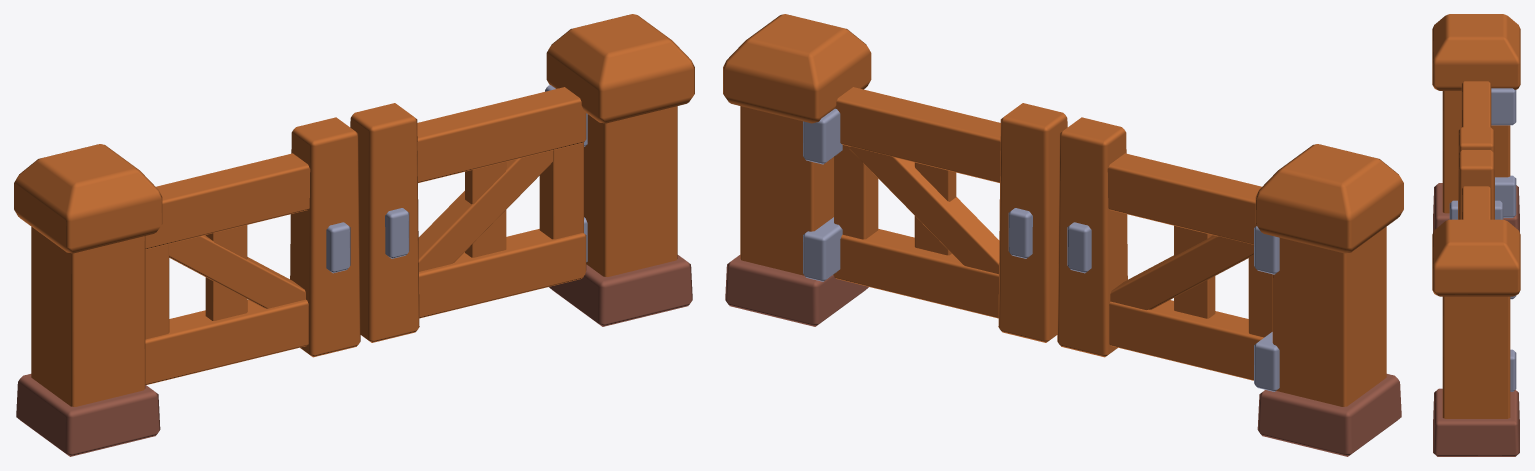
File: Gate.glb
3 views of the same model, side by side, from view 1: azimuth 30°, elevation 25°; view 2: azimuth 150°, elevation 25°; view 3: azimuth 270°, elevation 25° (orthographic). The views are drawn at different scales.
Parts seen in each view (by area): view 1: M_Gate_ToyLeg, M_Gate_Bark, M_Gate_Steel; view 2: M_Gate_ToyLeg, M_Gate_Bark, M_Gate_Steel; view 3: M_Gate_ToyLeg, M_Gate_Bark, M_Gate_Steel.
Boxes of the visible parts, bbox=[...] form: M_Gate_ToyLeg: bbox=[14, 14, 694, 406]; M_Gate_Bark: bbox=[16, 255, 692, 456]; M_Gate_Steel: bbox=[326, 85, 587, 273]; M_Gate_ToyLeg: bbox=[723, 14, 1403, 406]; M_Gate_Bark: bbox=[725, 255, 1401, 456]; M_Gate_Steel: bbox=[803, 108, 1279, 391]; M_Gate_ToyLeg: bbox=[1432, 14, 1520, 418]; M_Gate_Bark: bbox=[1433, 183, 1519, 456]; M_Gate_Steel: bbox=[1449, 88, 1516, 391].
Bounding box in the file's own units: 8.98 × 3.62 × 1.38.
